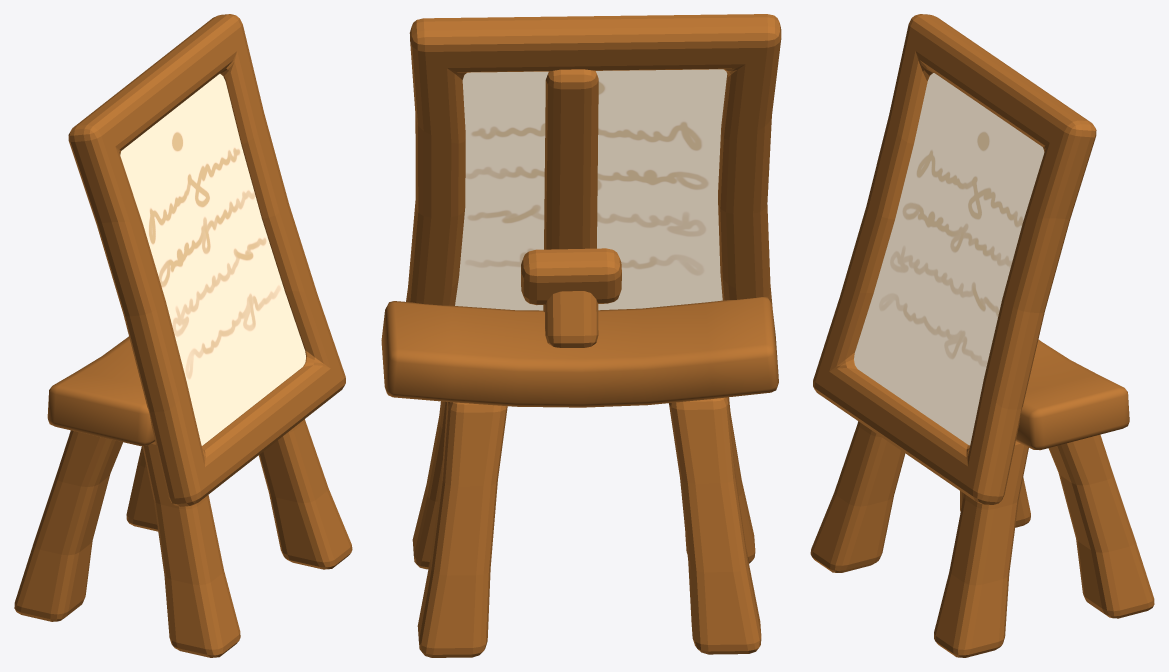
File: board_model.glb
3 renders of one model, left to right at view 1: azimuth 30°, elevation 25°; view 2: azimuth 150°, elevation 25°; view 3: azimuth 270°, elevation 25°, orthographic. The views are drawn at different scales.
Parts seen in each view (by area): view 1: Plane.2281_Plane.3210_Material.1120_Material.1120_0; view 2: Plane.2281_Plane.3210_Material.1120_Material.1120_0; view 3: Plane.2281_Plane.3210_Material.1120_Material.1120_0.
Boxes of the visible parts, bbox=[...] form: Plane.2281_Plane.3210_Material.1120_Material.1120_0: bbox=[14, 14, 352, 657]; Plane.2281_Plane.3210_Material.1120_Material.1120_0: bbox=[381, 14, 781, 657]; Plane.2281_Plane.3210_Material.1120_Material.1120_0: bbox=[810, 14, 1154, 657].
Size of the model in its own units: 1.09 by 1.68 by 1.03.
2 materials, 1 textured.
